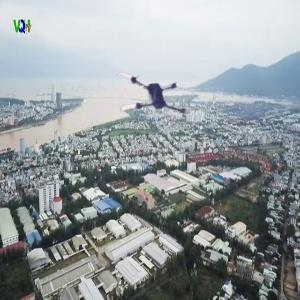drone: (111, 60, 190, 139)
